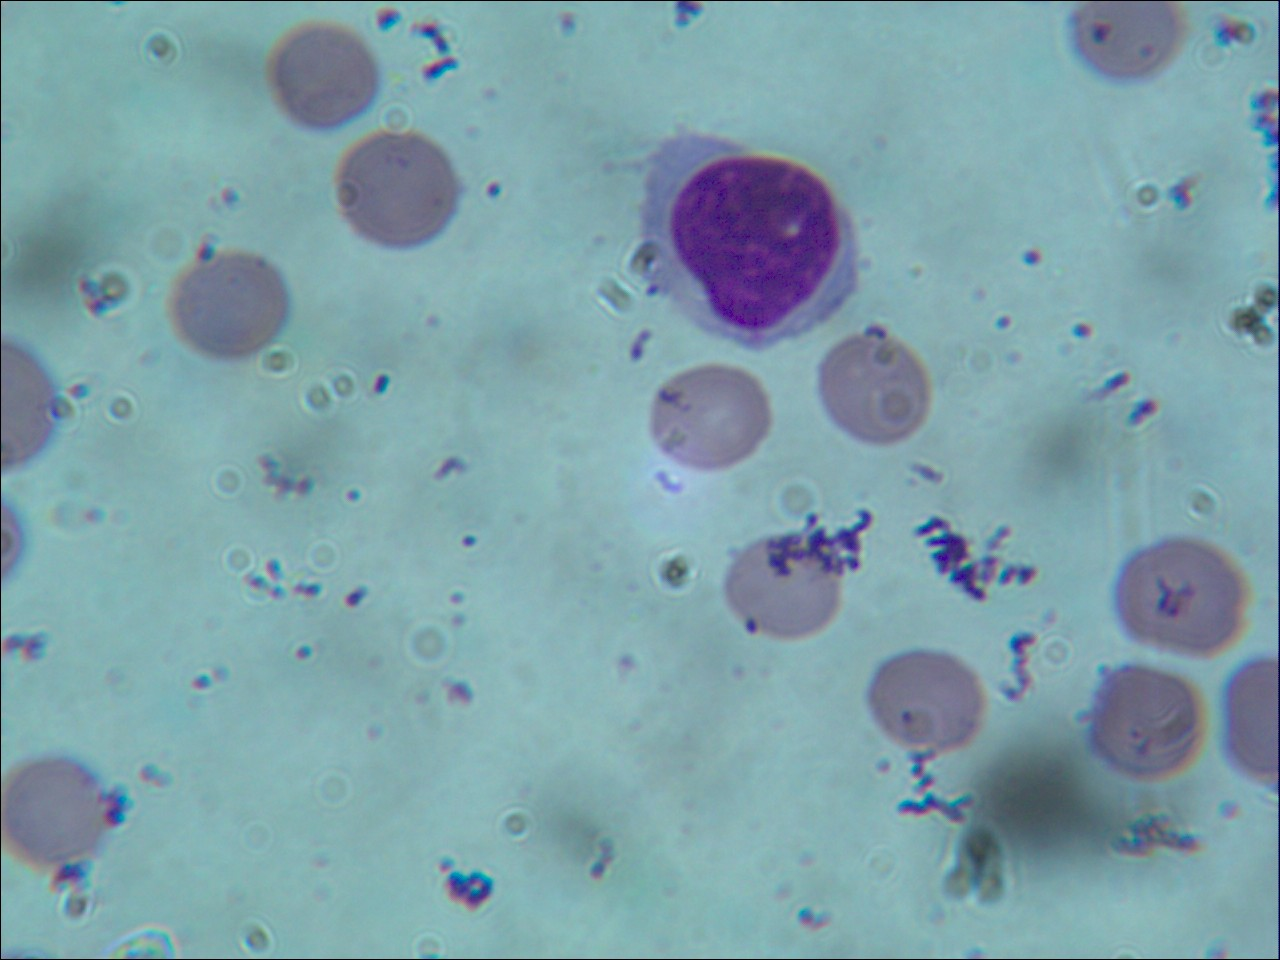Eritrosit: (1112, 530, 1252, 667), (330, 125, 462, 253), (165, 246, 292, 371), (640, 365, 777, 477), (865, 643, 990, 765), (262, 12, 383, 137), (1084, 661, 1205, 784), (814, 330, 931, 455), (1, 756, 109, 878), (734, 533, 840, 636), (1068, 1, 1181, 80)
Limfosit: (645, 137, 862, 349)
Platelet: (365, 365, 403, 408), (1174, 169, 1200, 214), (1067, 317, 1100, 350), (337, 584, 374, 612), (418, 303, 449, 336), (477, 74, 503, 111), (217, 179, 245, 214), (477, 175, 511, 203), (1021, 240, 1049, 272), (792, 902, 820, 934), (553, 8, 580, 42), (1086, 21, 1117, 50), (184, 242, 217, 268), (287, 640, 317, 668), (65, 380, 96, 406), (737, 614, 764, 643), (896, 702, 920, 734), (45, 394, 71, 425), (21, 630, 46, 661), (374, 9, 405, 33), (439, 587, 473, 608), (186, 674, 215, 697), (590, 221, 611, 249), (908, 256, 927, 286), (339, 484, 362, 508), (617, 650, 643, 671), (447, 612, 471, 634), (993, 311, 1015, 334), (1003, 346, 1023, 371), (3, 633, 21, 661), (81, 503, 103, 525), (970, 284, 989, 308), (453, 534, 475, 553)
